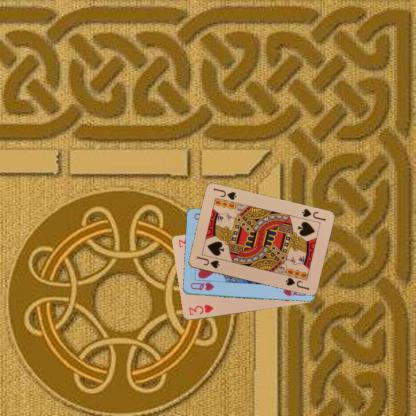3h: (186, 302, 214, 317)
Js: (194, 253, 221, 270), (299, 206, 326, 223)
Qh: (188, 280, 215, 292)
